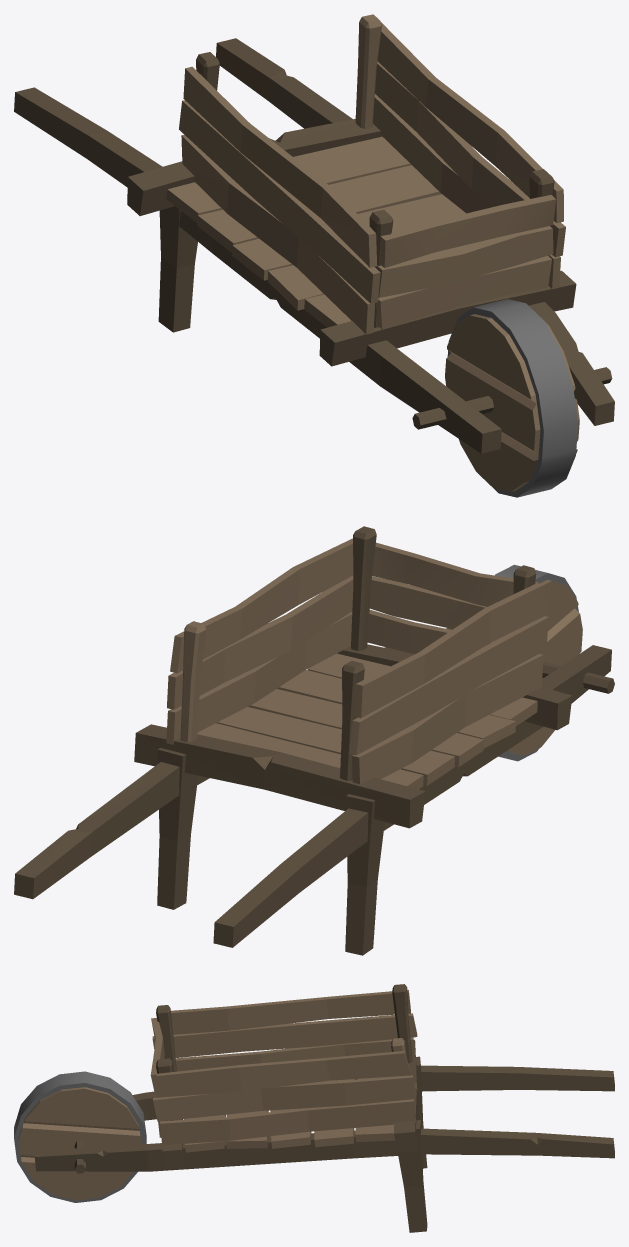
Rendered from cart_c.FBX.
The picture shows the model from 3 angles, top to bottom: view 1: azimuth 30°, elevation 25°; view 2: azimuth 150°, elevation 25°; view 3: azimuth 270°, elevation 25°; orthographic projection. The views are drawn at different scales.
Parts seen in each view (by area): view 1: cart_c; view 2: cart_c; view 3: cart_c.
Part boxes in pixels (bbox=[...]): cart_c: bbox=[14, 14, 614, 497]; cart_c: bbox=[14, 526, 614, 955]; cart_c: bbox=[14, 984, 614, 1232].
Bounding box in the file's own units: 0.9551 × 0.9092 × 2.63.
